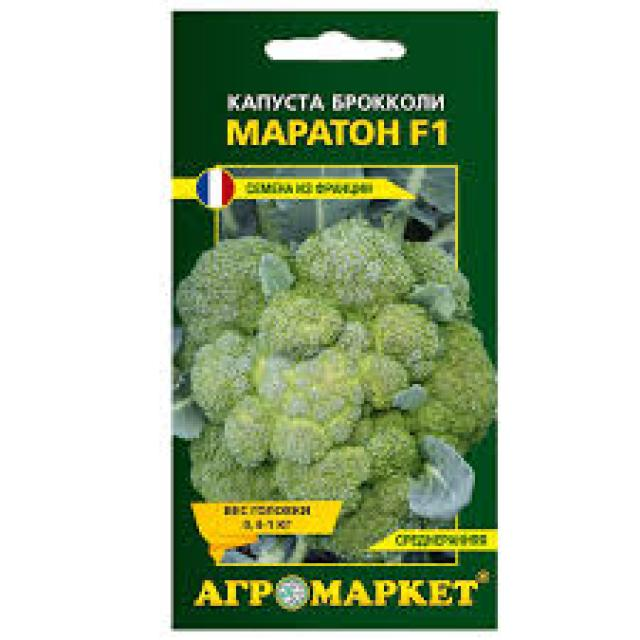broccoli: (199, 222, 472, 526)
